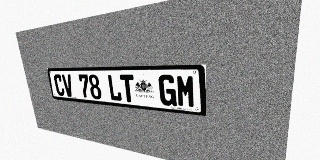7: (78, 74, 91, 99)
8: (88, 74, 102, 100)
C: (53, 74, 65, 96)
G: (158, 75, 177, 106)
L: (107, 74, 122, 101)
M: (176, 75, 196, 108)
T: (120, 74, 136, 103)
V: (61, 74, 74, 97)
